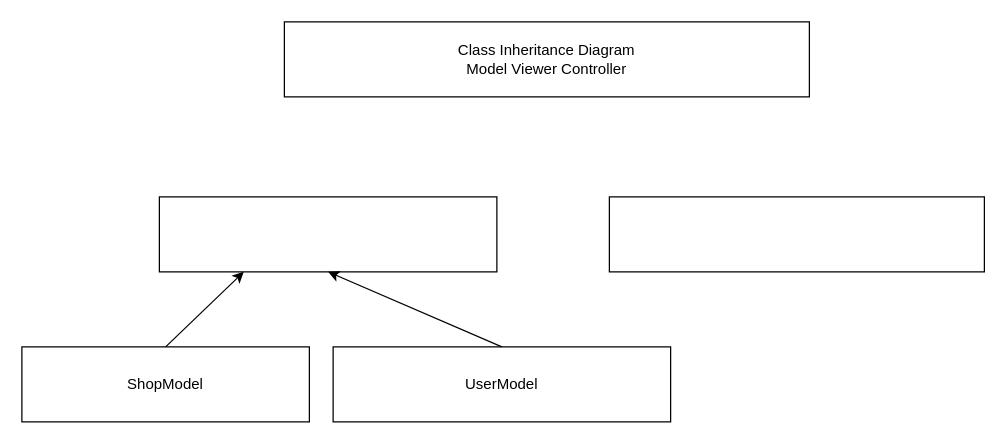
Some shapes in this 1006 by 444 pixel diagram are drawn without their labels. The centre of each missing label's shape, as x and y in pixels:
"Page Controller" goes at point 796,234.
"PageModel" goes at point 327,234.
